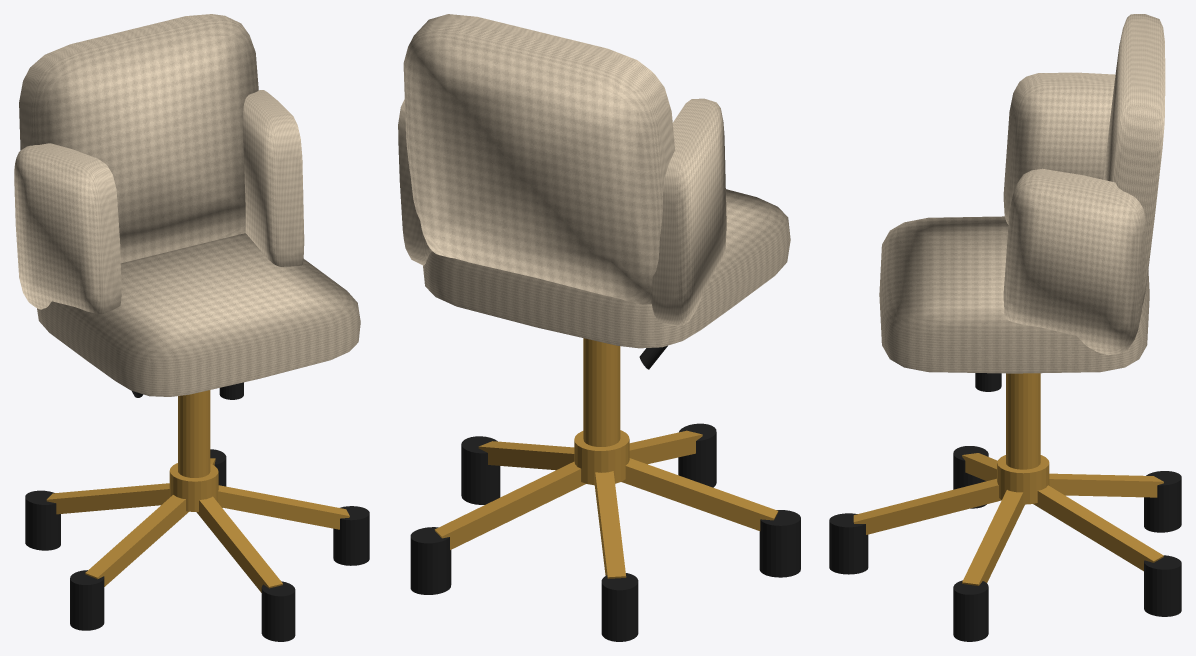
3 views of the same model, side by side, from view 1: azimuth 30°, elevation 25°; view 2: azimuth 150°, elevation 25°; view 3: azimuth 270°, elevation 25° (orthographic). The views are drawn at different scales.
Parts seen in each view (by area): view 1: 2 backrest, 1 seat, 3 left_wing, 4 right_wing, 11 spoke_2, 14 spoke_5, 8 gas_lift, 13 spoke_4, 10 spoke_1, 18 wheel_4, 15 wheel_1, 19 wheel_5 (+2 smaller); view 2: 2 backrest, 1 seat, 3 left_wing, 12 spoke_3, 14 spoke_5, 8 gas_lift, 19 wheel_5, 17 wheel_3, 18 wheel_4, 13 spoke_4, 16 wheel_2, 4 right_wing (+4 smaller); view 3: 1 seat, 4 right_wing, 3 left_wing, 2 backrest, 8 gas_lift, 10 spoke_1, 12 spoke_3, 11 spoke_2, 13 spoke_4, 15 wheel_1, 17 wheel_3, 16 wheel_2 (+4 smaller).
Part boxes in pixels (x1,y1,x2,y2): 2 backrest: (19, 14, 258, 263); 1 seat: (37, 233, 360, 396); 3 left_wing: (14, 143, 121, 313); 4 right_wing: (243, 90, 304, 266); 11 spoke_2: (218, 485, 349, 529); 14 spoke_5: (85, 495, 188, 586); 8 gas_lift: (178, 390, 210, 477); 13 spoke_4: (46, 483, 169, 514); 10 spoke_1: (196, 496, 282, 592); 18 wheel_4: (25, 490, 60, 550); 15 wheel_1: (261, 581, 295, 641); 19 wheel_5: (70, 570, 104, 630); 2 backrest: (403, 14, 674, 304); 1 seat: (423, 189, 790, 348); 3 left_wing: (651, 98, 726, 325); 12 spoke_3: (434, 461, 586, 549); 14 spoke_5: (621, 458, 778, 530); 8 gas_lift: (583, 338, 620, 446); 19 wheel_5: (759, 510, 800, 577); 17 wheel_3: (410, 527, 451, 594); 18 wheel_4: (601, 573, 638, 641); 13 spoke_4: (594, 471, 626, 578); 16 wheel_2: (461, 436, 500, 504); 4 right_wing: (398, 99, 431, 265); 1 seat: (879, 216, 1149, 373); 4 right_wing: (1003, 168, 1145, 355); 3 left_wing: (1003, 72, 1115, 224); 2 backrest: (1103, 14, 1165, 307); 8 gas_lift: (1006, 373, 1040, 469); 10 spoke_1: (853, 478, 1001, 534); 12 spoke_3: (1033, 485, 1163, 571); 11 spoke_2: (962, 490, 1024, 585); 13 spoke_4: (1049, 473, 1163, 497); 15 wheel_1: (829, 513, 868, 574); 17 wheel_3: (1144, 555, 1181, 616); 16 wheel_2: (953, 580, 988, 641).
Bounding box in the file's own units: 0.62 × 1 × 0.62.
Materials: 4 (1 with a texture image).
